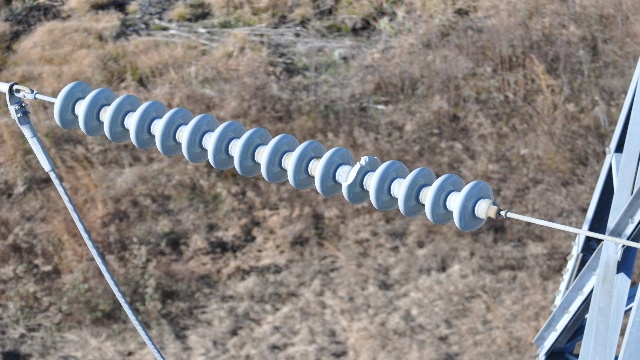broken_local: (342, 154, 380, 187)
insulator_unspecified: (54, 80, 494, 231)
